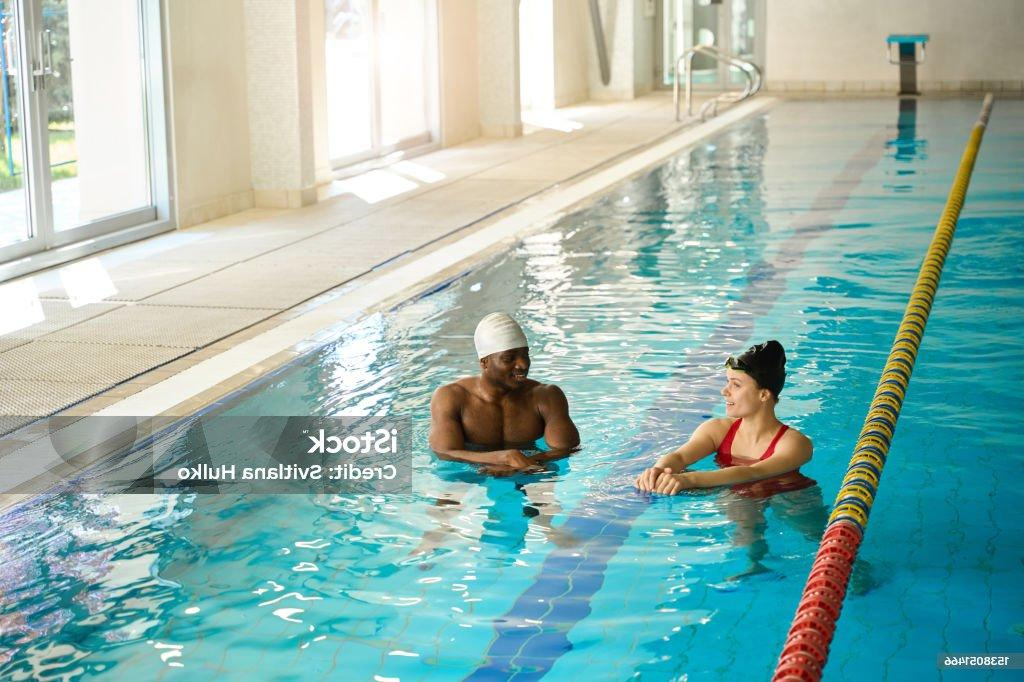Swimming: (627, 300, 869, 574), (424, 275, 619, 539)
